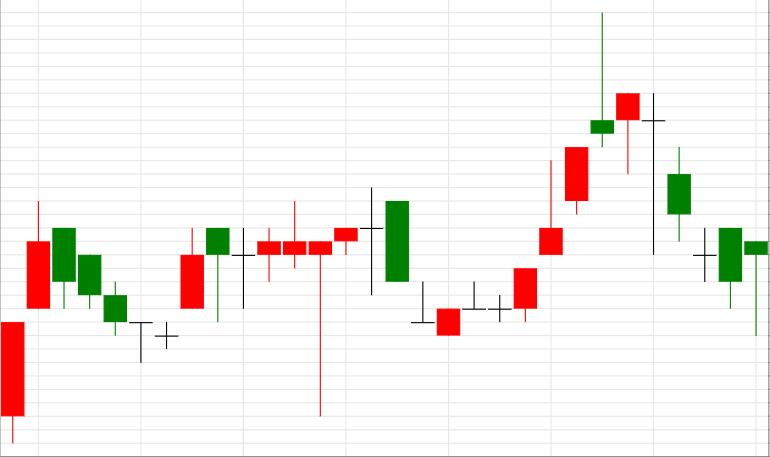hanging_man_fall: (437, 12, 639, 336)
